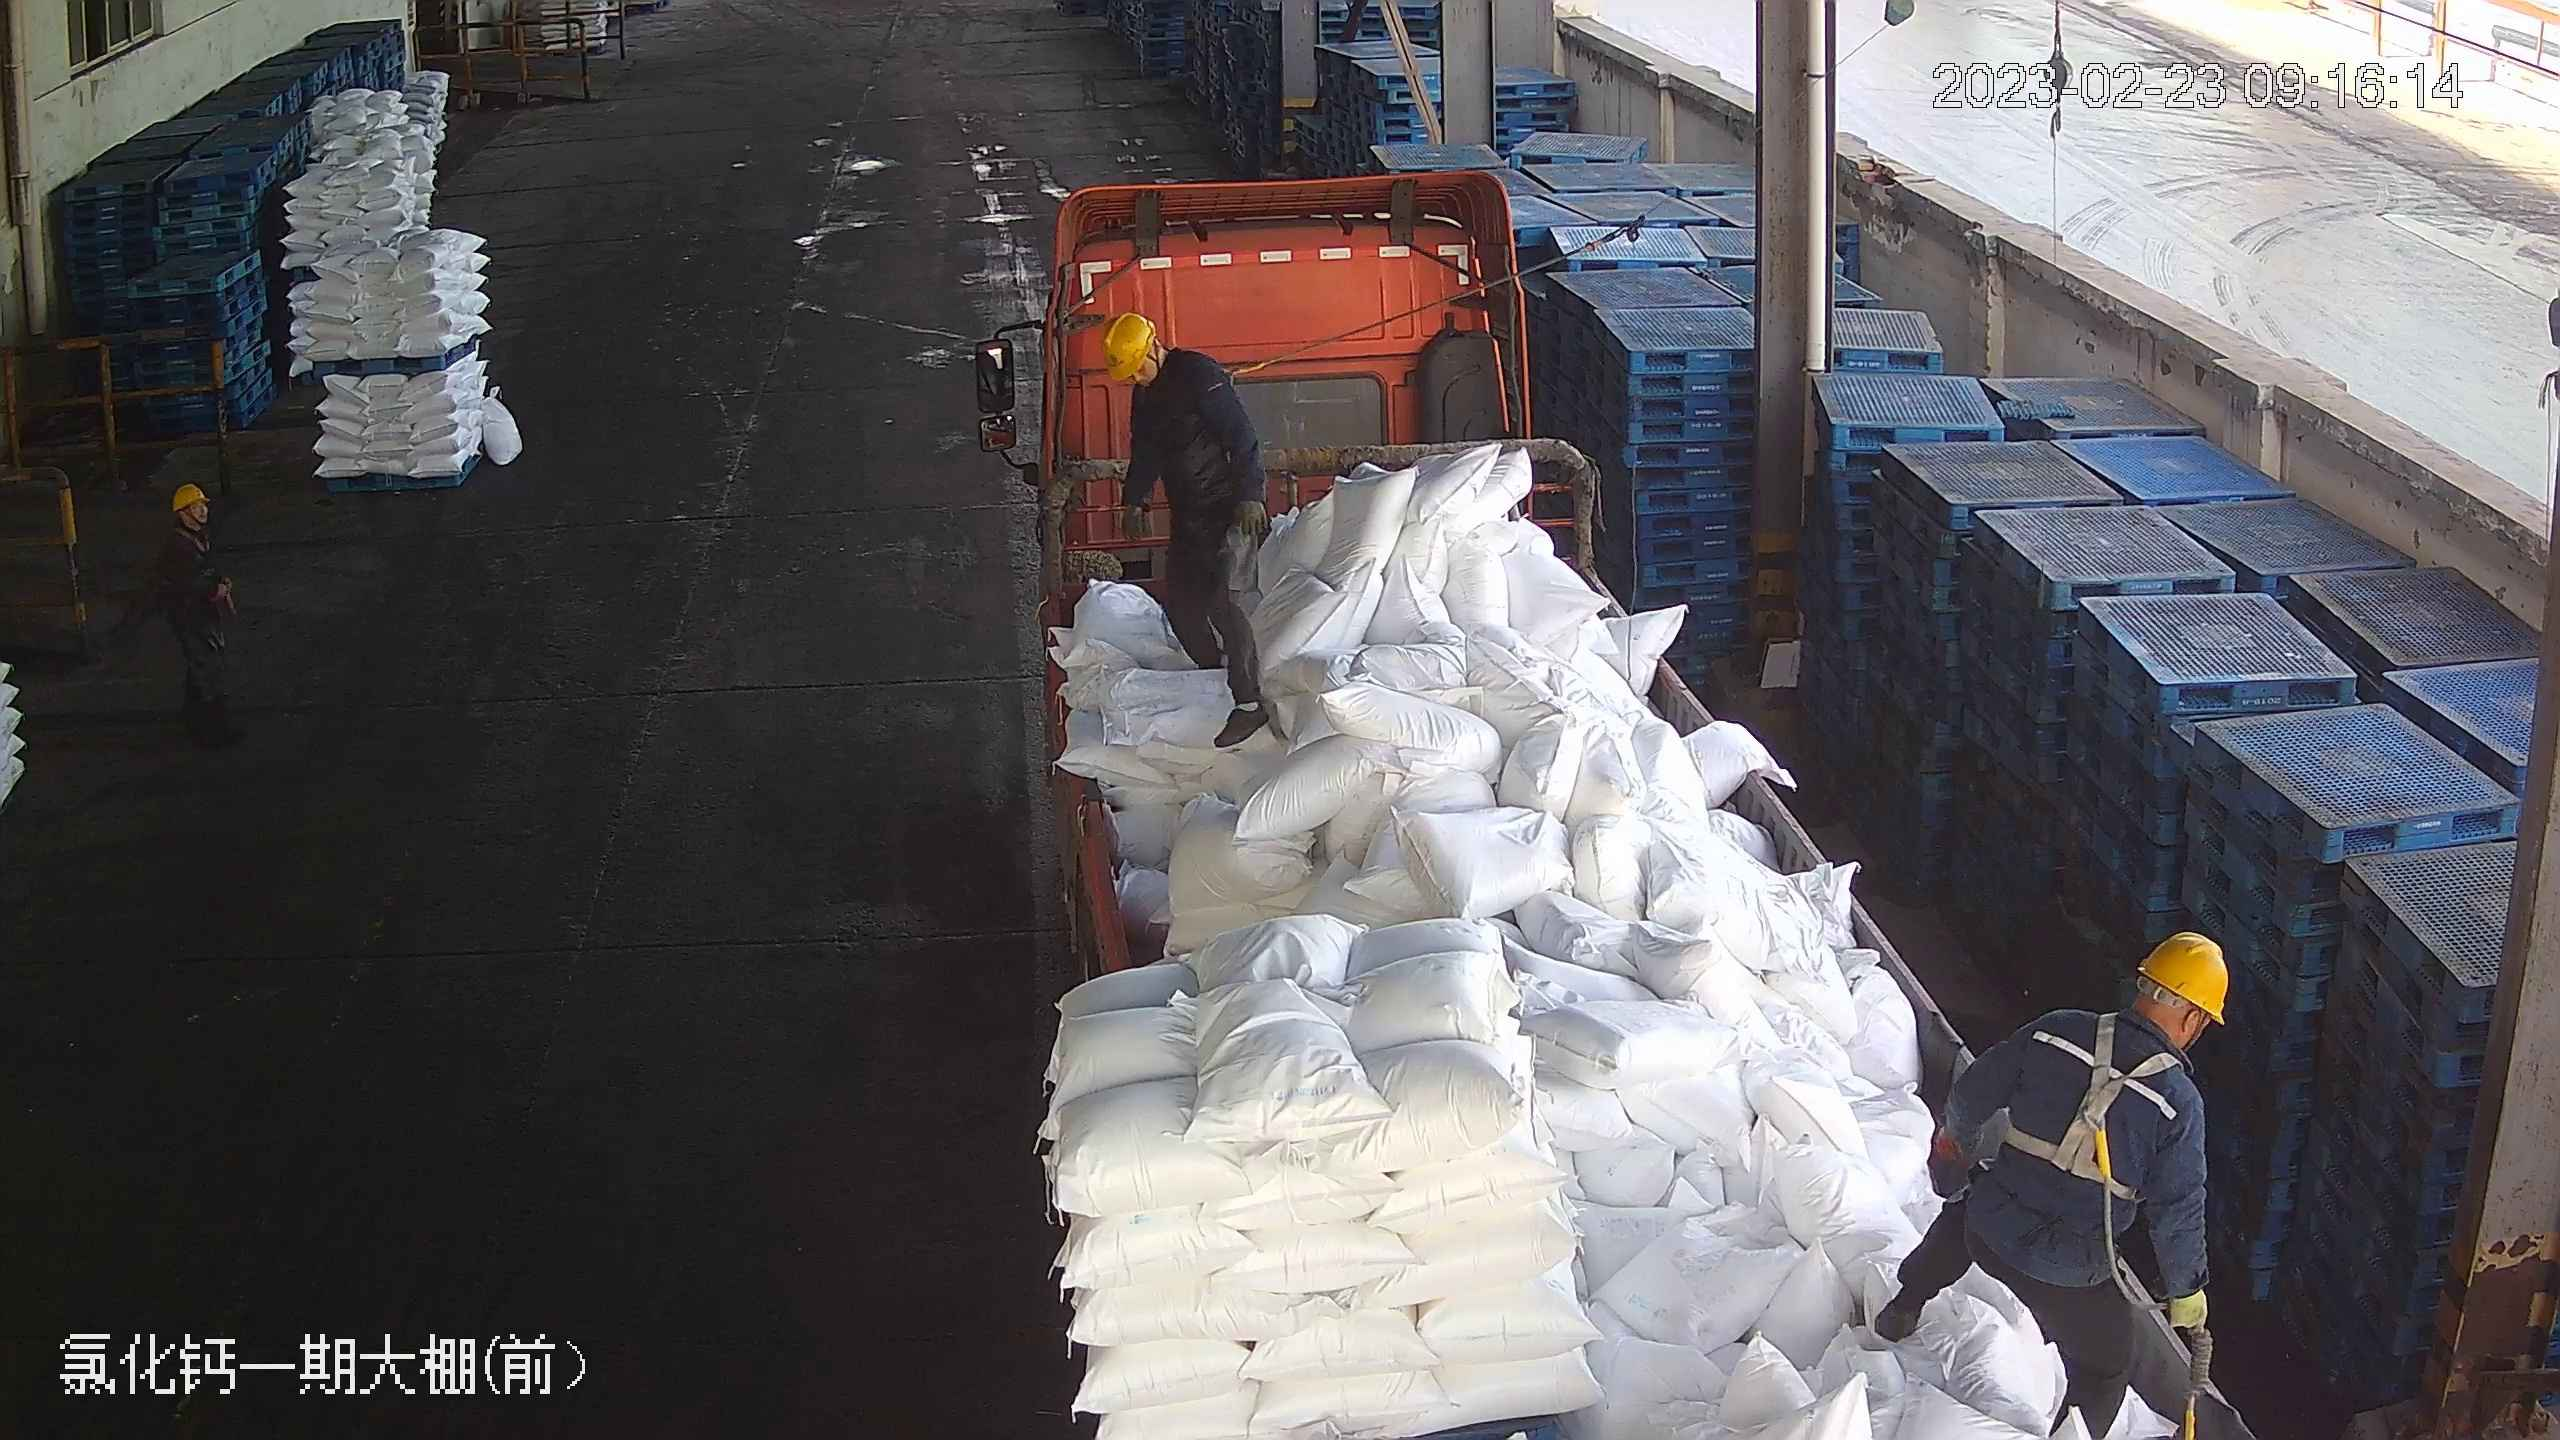belt: (1990, 1011, 2174, 1209), (1166, 335, 1259, 400), (179, 523, 222, 560)
head: (1990, 932, 2229, 1124), (1096, 310, 1239, 429), (158, 480, 226, 571)
helmet: (2135, 930, 2229, 1027), (1096, 310, 1159, 379), (163, 479, 217, 542), (166, 480, 210, 514)
people: (1852, 912, 2229, 1435), (1096, 304, 1287, 753), (151, 476, 248, 747)
truck: (981, 171, 2263, 1434)
